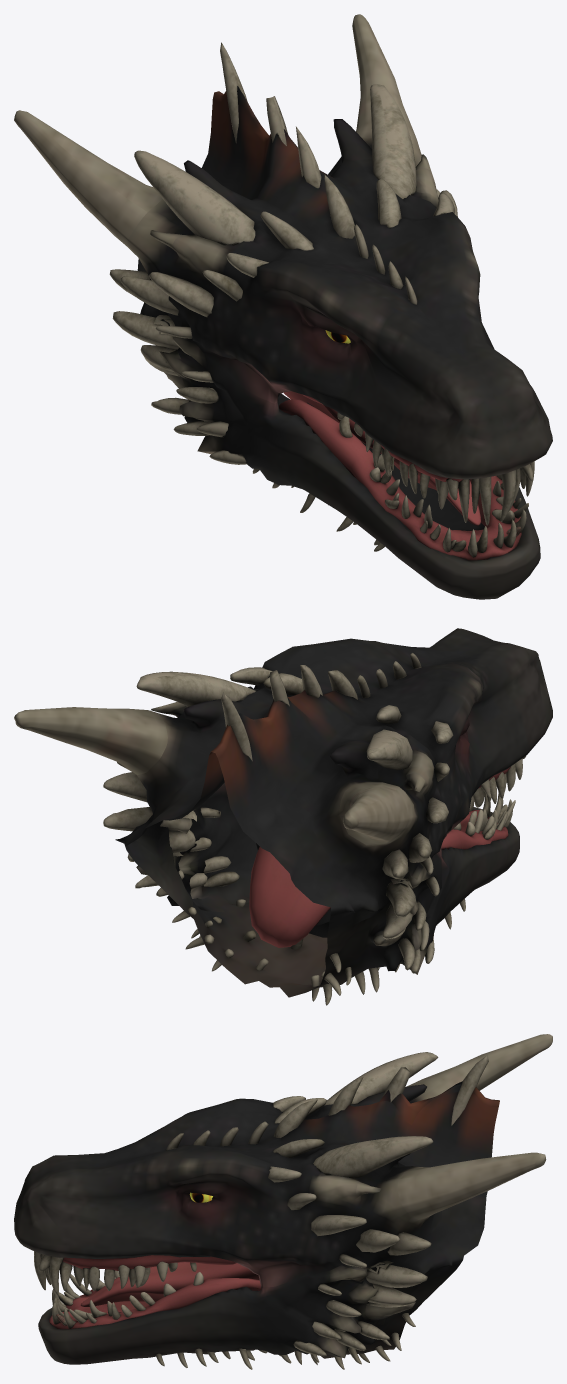
The model's file is dragon_00005.obj.
3 views of the same model, one above another, from view 1: azimuth 30°, elevation 25°; view 2: azimuth 150°, elevation 25°; view 3: azimuth 270°, elevation 25° (orthographic). The views are drawn at different scales.
Parts seen in each view (by area): view 1: Dragon_Untitled; view 2: Dragon_Untitled; view 3: Dragon_Untitled.
Boxes of the visible parts, x1,y1,x2,y2 form: Dragon_Untitled: (14, 14, 552, 599); Dragon_Untitled: (14, 628, 552, 1005); Dragon_Untitled: (14, 1034, 552, 1369).
Bounding box in the file's own units: 2.72 × 2.77 × 4.46.
